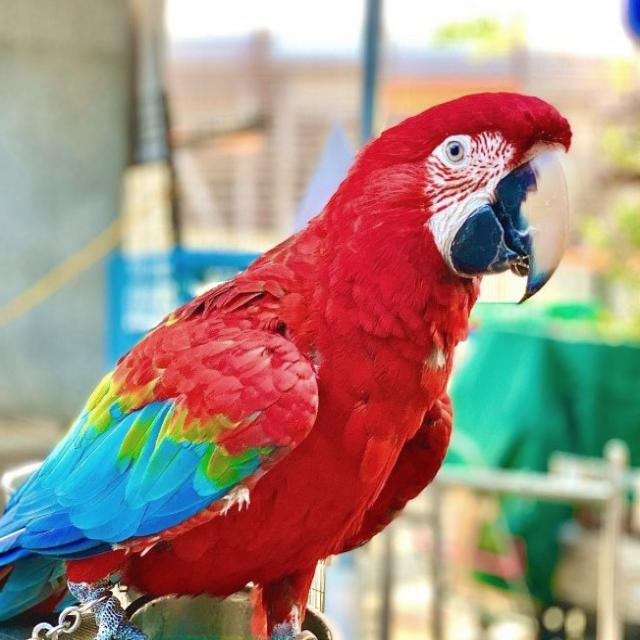parrot: (1, 93, 572, 639)
